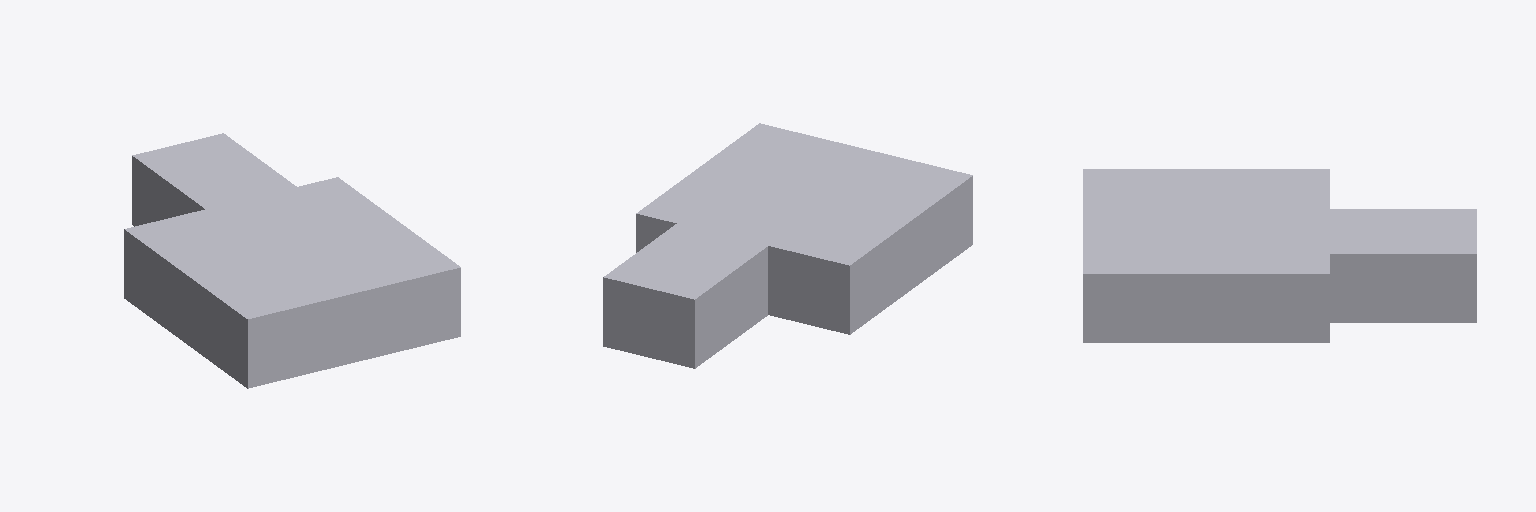
The model's file is Buisness1v1.obj.
3 renders of one model, left to right at view 1: azimuth 30°, elevation 25°; view 2: azimuth 150°, elevation 25°; view 3: azimuth 270°, elevation 25°, orthographic.
Visible parts, largest first — view 1: Floorpannel12, Floorpannel24, Floorpannel15, Floorpannel1, Floorpannel5; view 2: Floorpannel12, Floorpannel15, Floorpannel1, Floorpannel6, Floorpannel13, Floorpannel5, Floorpannel11; view 3: Floorpannel12, Floorpannel14, Floorpannel25, Floorpannel1.
Boxes of the visible parts, box(x1,y1,x2,y2) form: Floorpannel12: box(124, 177, 460, 324); Floorpannel24: box(245, 274, 455, 388); Floorpannel15: box(127, 237, 244, 386); Floorpannel1: box(132, 133, 296, 210); Floorpannel5: box(135, 163, 199, 225); Floorpannel12: box(636, 123, 972, 270); Floorpannel15: box(853, 184, 969, 331); Floorpannel1: box(603, 224, 767, 304); Floorpannel6: box(603, 283, 697, 368); Floorpannel13: box(768, 251, 852, 334); Floorpannel5: box(698, 252, 767, 365); Floorpannel11: box(636, 219, 670, 252); Floorpannel12: box(1083, 169, 1329, 278); Floorpannel14: box(1083, 279, 1323, 342); Floorpannel25: box(1330, 259, 1470, 322); Floorpannel1: box(1330, 209, 1476, 258).
Bounding box in the file's own units: 10.5 × 3.25 × 16.75.